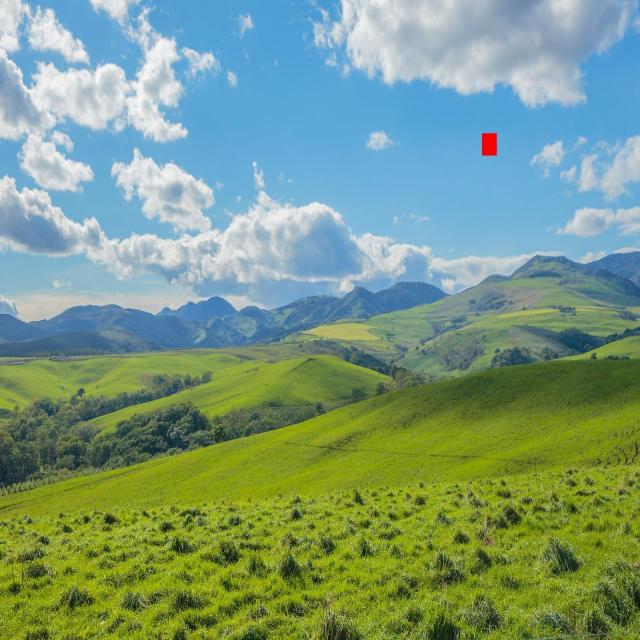RedSquare: (481, 127, 500, 164)
